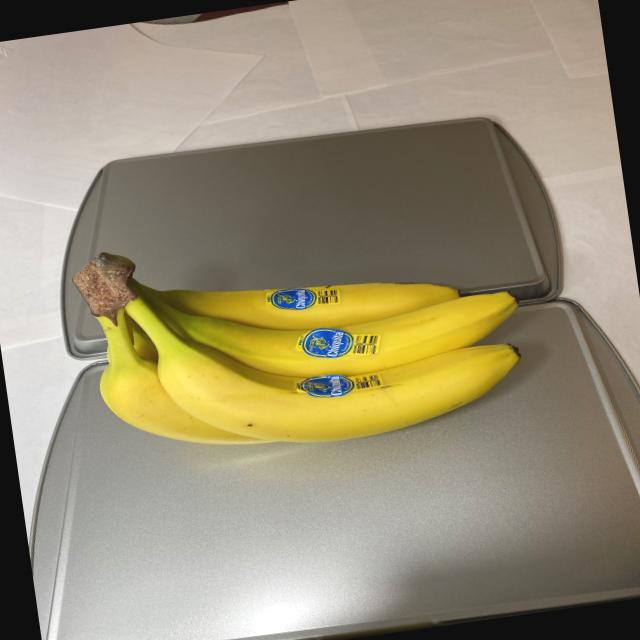banana: (61, 195, 536, 474)
